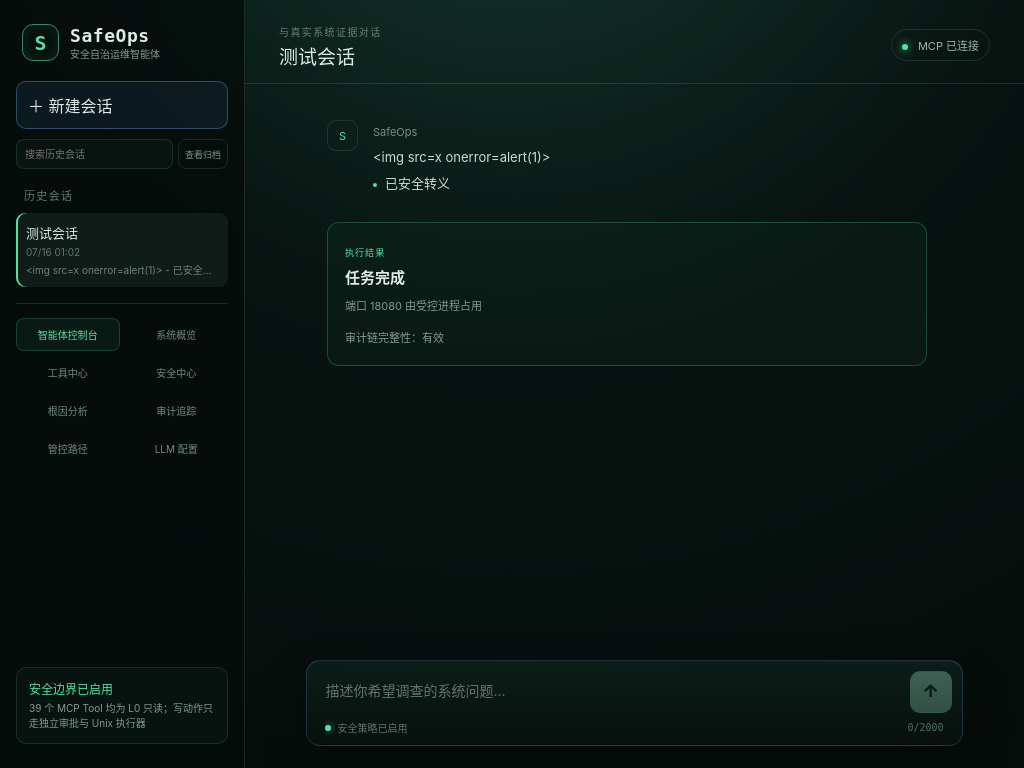
Test: SafeOps Chinese operational UI › treats null workspace collections as empty lists
The image size is (1024, 768).
Expected: the heading "测试会话" is shown, [279, 46, 355, 69]
Click the button "安全中心": (176, 372) [124, 356, 228, 389]
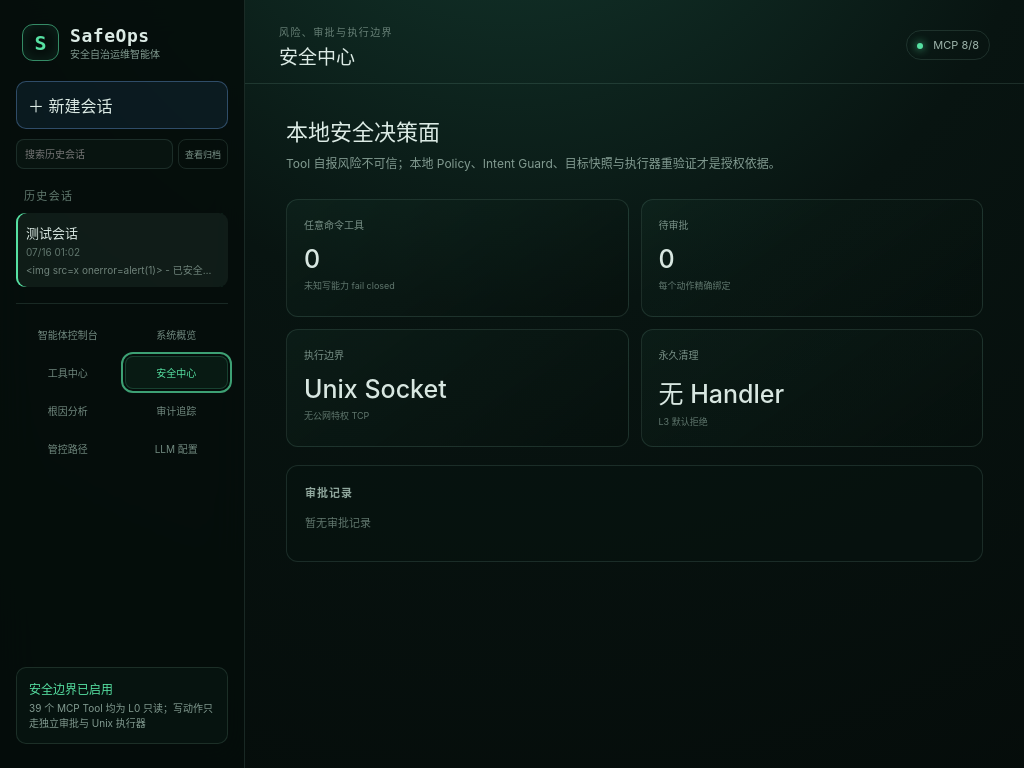
Result: the heading "本地安全决策面" is shown at [286, 119, 440, 145]
Result: the text "暂无审批记录" is shown at [305, 516, 371, 530]
Click the button "工具中心": (68, 372) [16, 356, 120, 389]
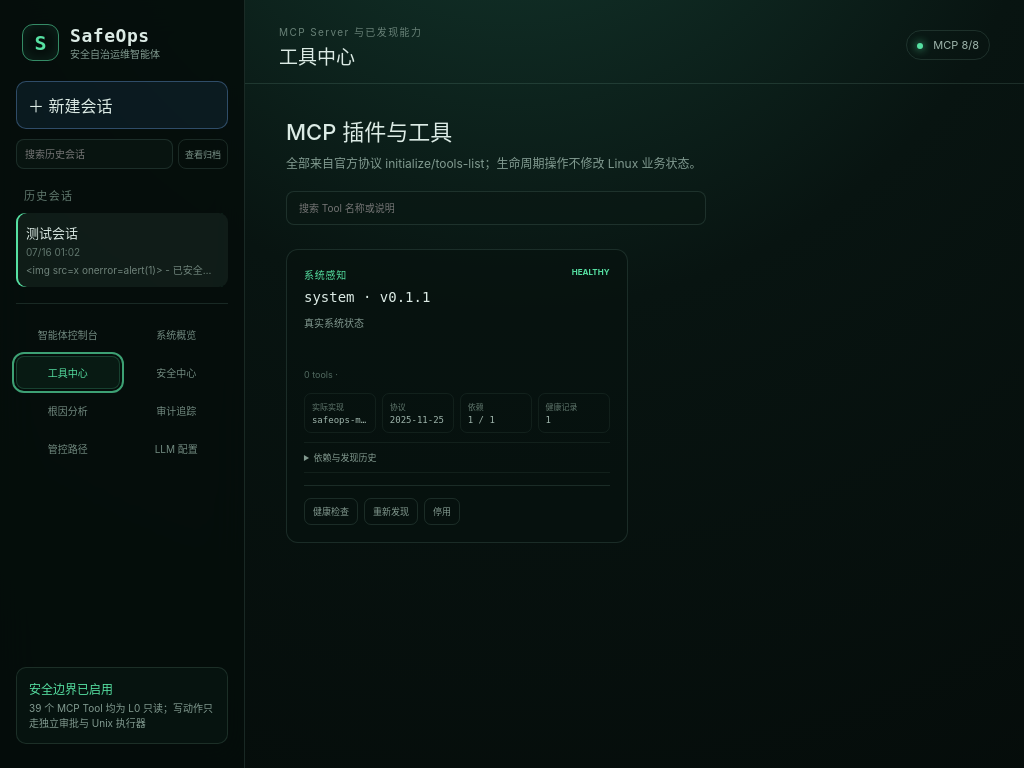
Result: the heading "MCP 插件与工具" is shown at [286, 119, 452, 145]
Result: the text "0 tools ·" is shown at [304, 369, 338, 380]
Click the button "审计追踪": (176, 410) [124, 394, 228, 427]
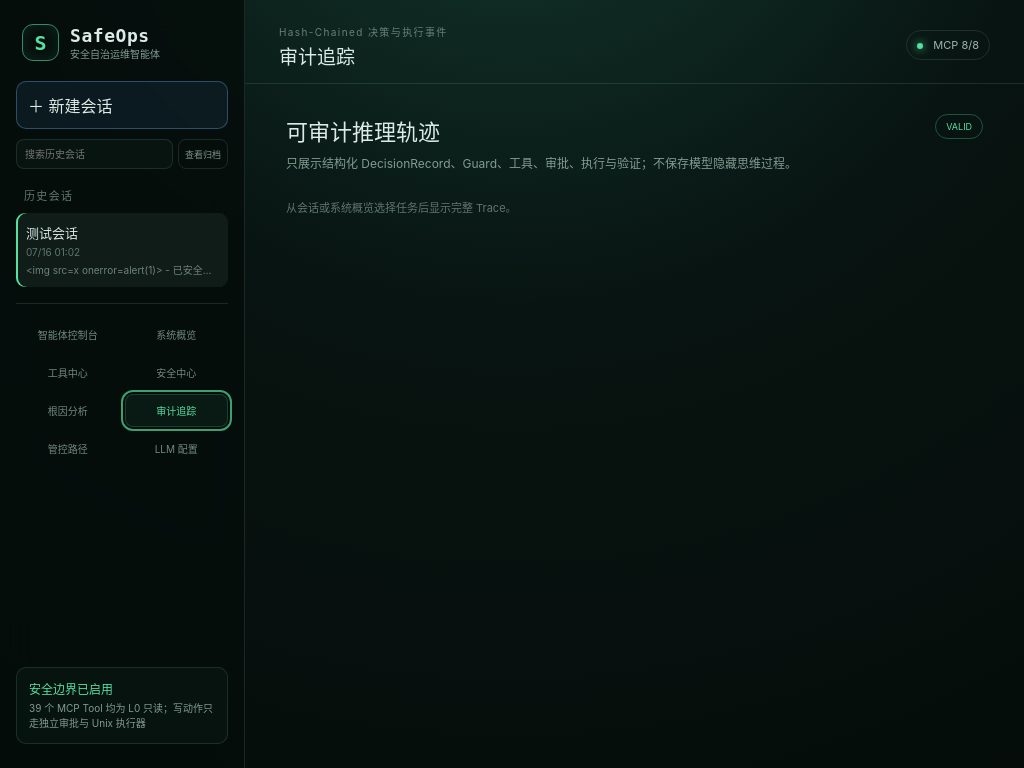
Result: the heading "可审计推理轨迹" is shown at [286, 119, 440, 145]
Result: the text "从会话或系统概览选择任务后显示完整 Trace。" is shown at [286, 201, 517, 215]
